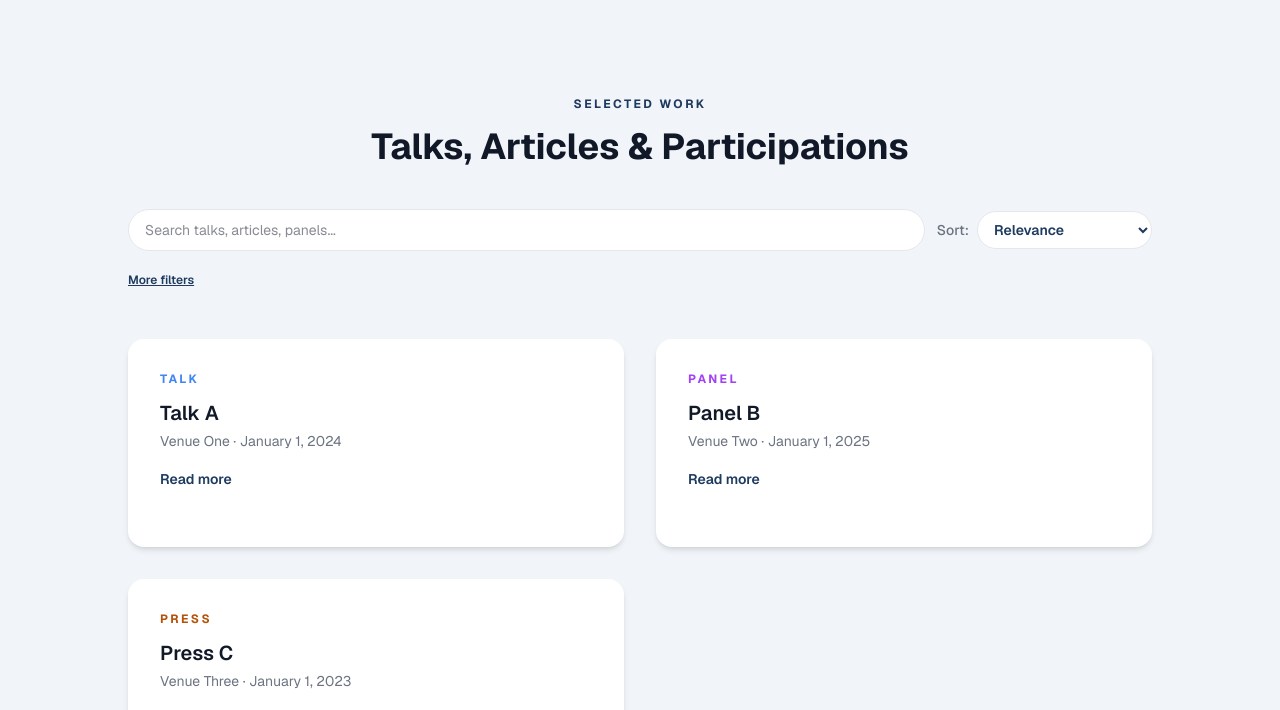
Test: PublicationsExplorer › shows an empty state when no results match
The width and height of the screenshot is (1280, 710).
Type "nonexistent" into the field with placeholder "Search talks, articles, panels...". click: point(526, 230)
box: [128,209,925,251]
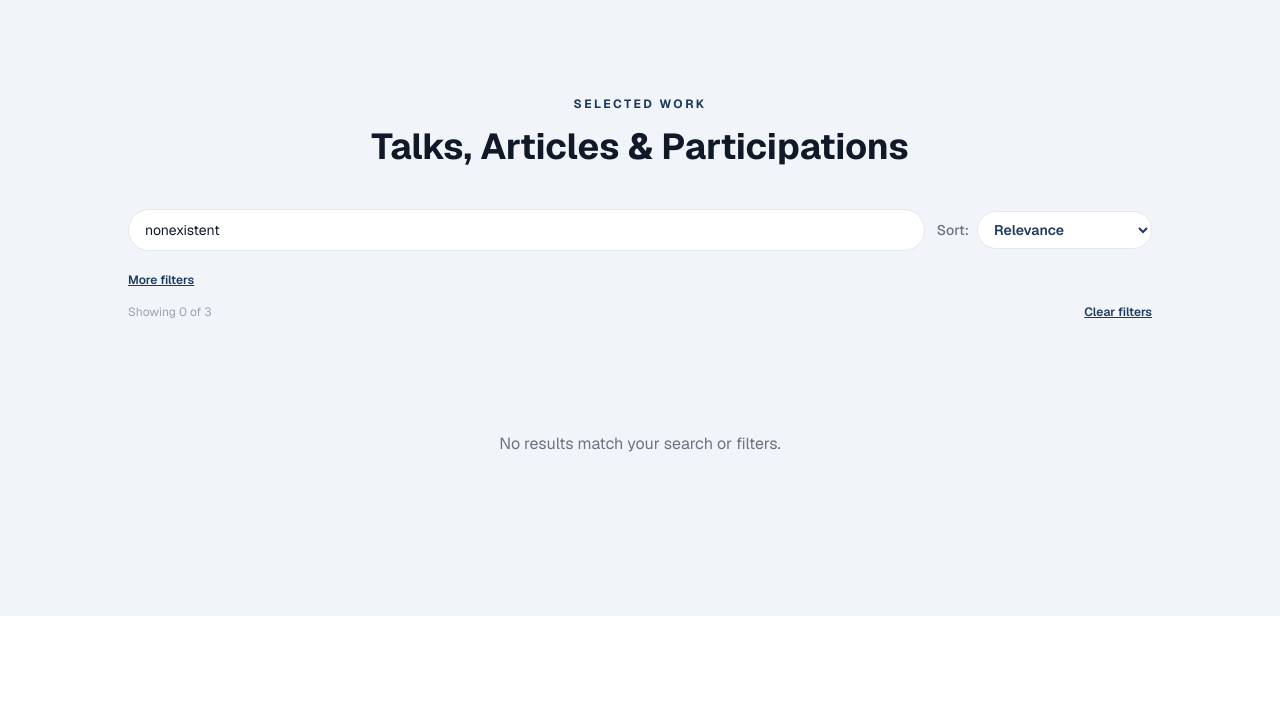
Result: the text "No results match your search or filters." is shown at [499,433,781,454]
